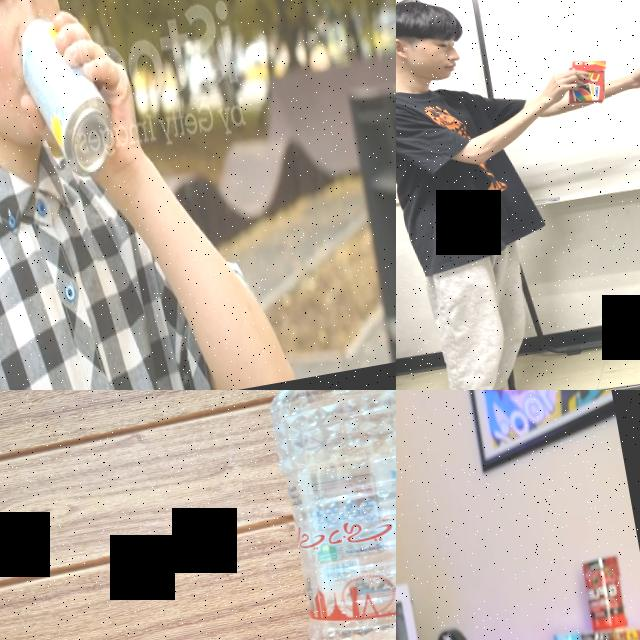bottle: (229, 390, 396, 640)
can: (10, 7, 120, 185)
